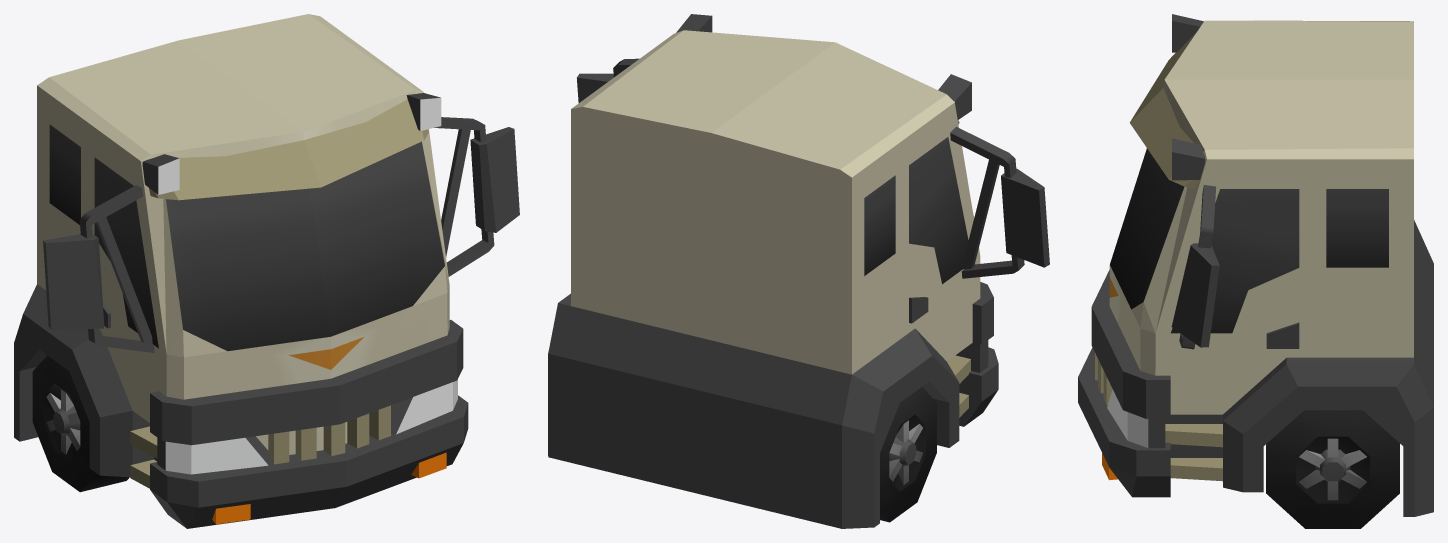
The model's file is head_F_1.fbx.
3 renders of one model, left to right at view 1: azimuth 30°, elevation 25°; view 2: azimuth 150°, elevation 25°; view 3: azimuth 270°, elevation 25°, orthographic.
Visible parts, largest first — view 1: head_F_1; view 2: head_F_1; view 3: head_F_1.
Part boxes in pixels (<box>): head_F_1: <box>14,14,519,528</box>; head_F_1: <box>548,14,1049,528</box>; head_F_1: <box>1078,14,1433,528</box>.
Bounding box in the file's own units: 1916 × 1464 × 1260.
